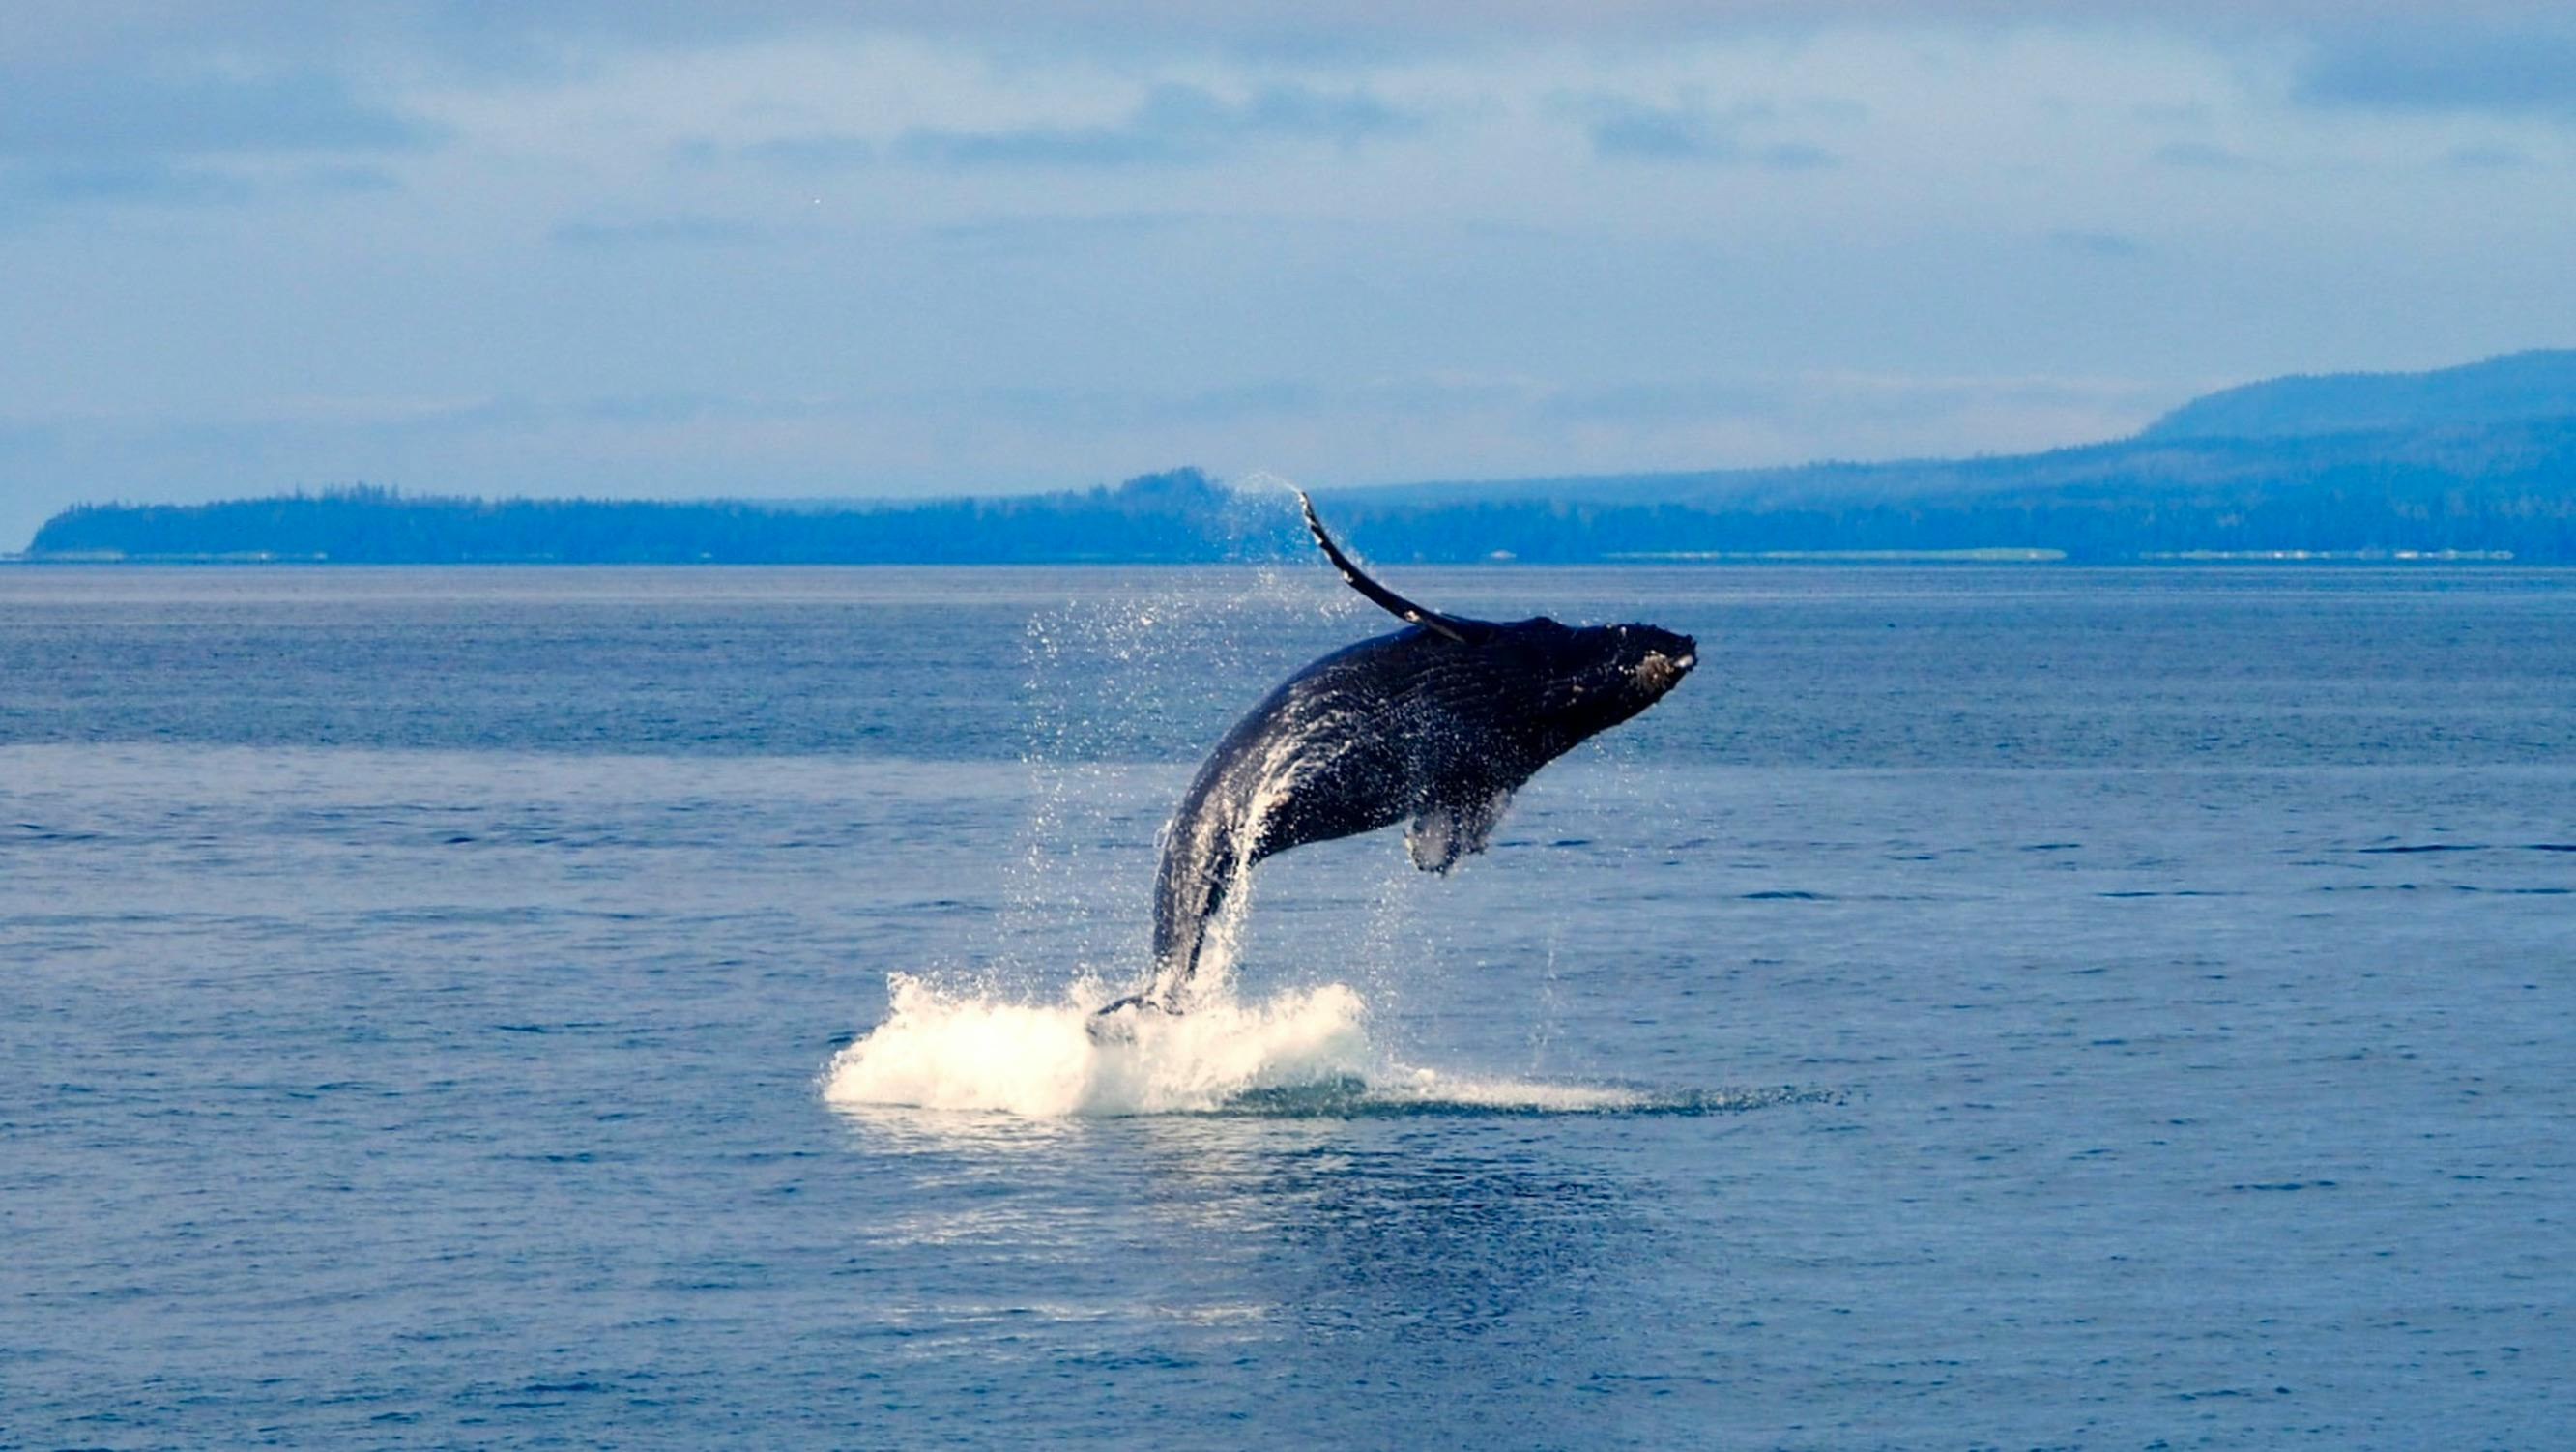whale: (1083, 478, 1702, 1065)
